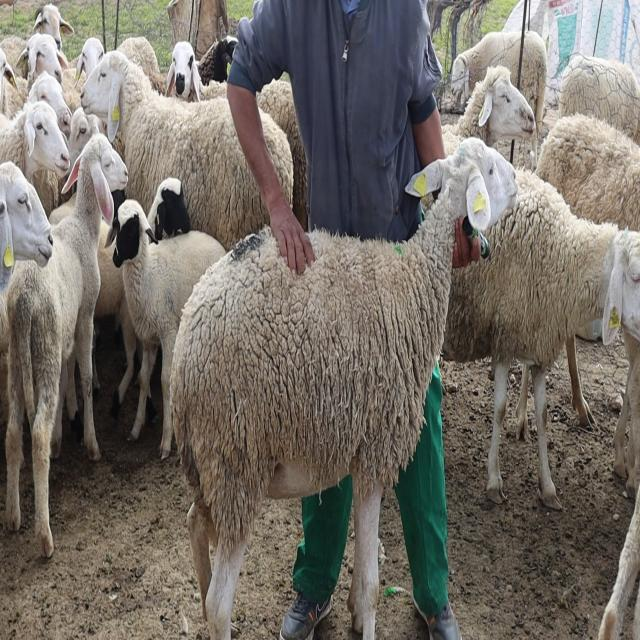Score_3: (171, 137, 518, 639)
